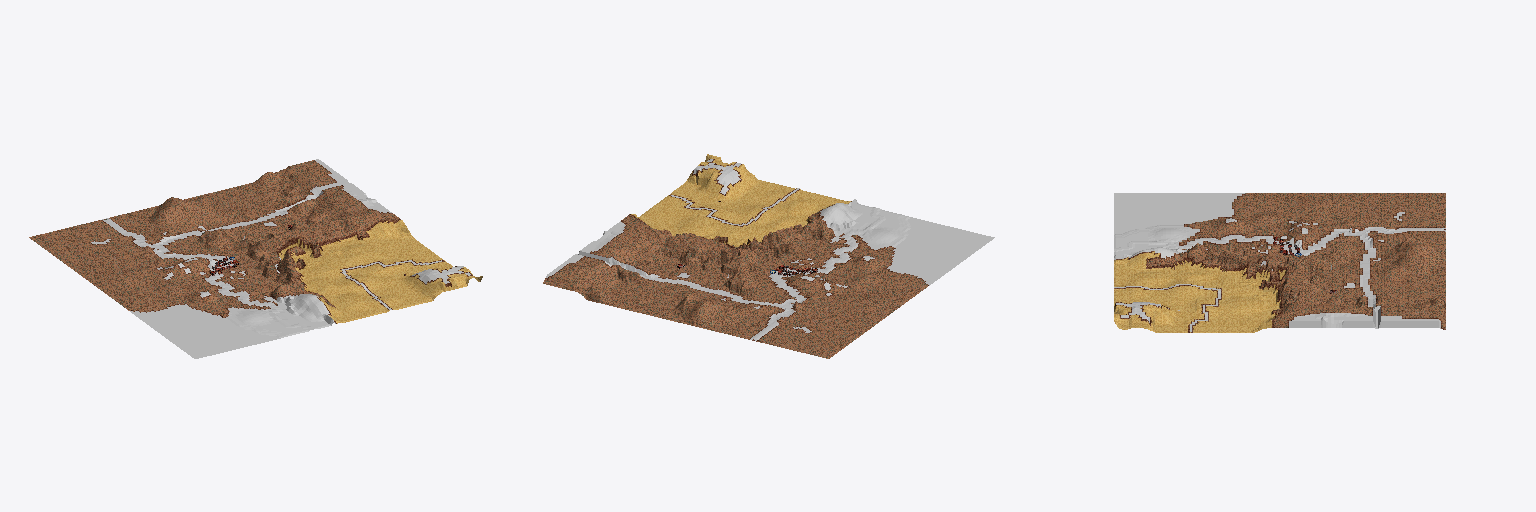
3 renders of one model, left to right at view 1: azimuth 30°, elevation 25°; view 2: azimuth 150°, elevation 25°; view 3: azimuth 270°, elevation 25°, orthographic.
Parts seen in each view (by area): view 1: _Ground_; view 2: _Ground_; view 3: _Ground_.
Part boxes in pixels (left/top/right/bottom): _Ground_: left=29, top=159, right=482, bottom=358; _Ground_: left=543, top=154, right=994, bottom=358; _Ground_: left=1114, top=193, right=1445, bottom=332.
Size of the model in its own units: 65024 by 3200 by 65024.
102 materials, 69 textured.